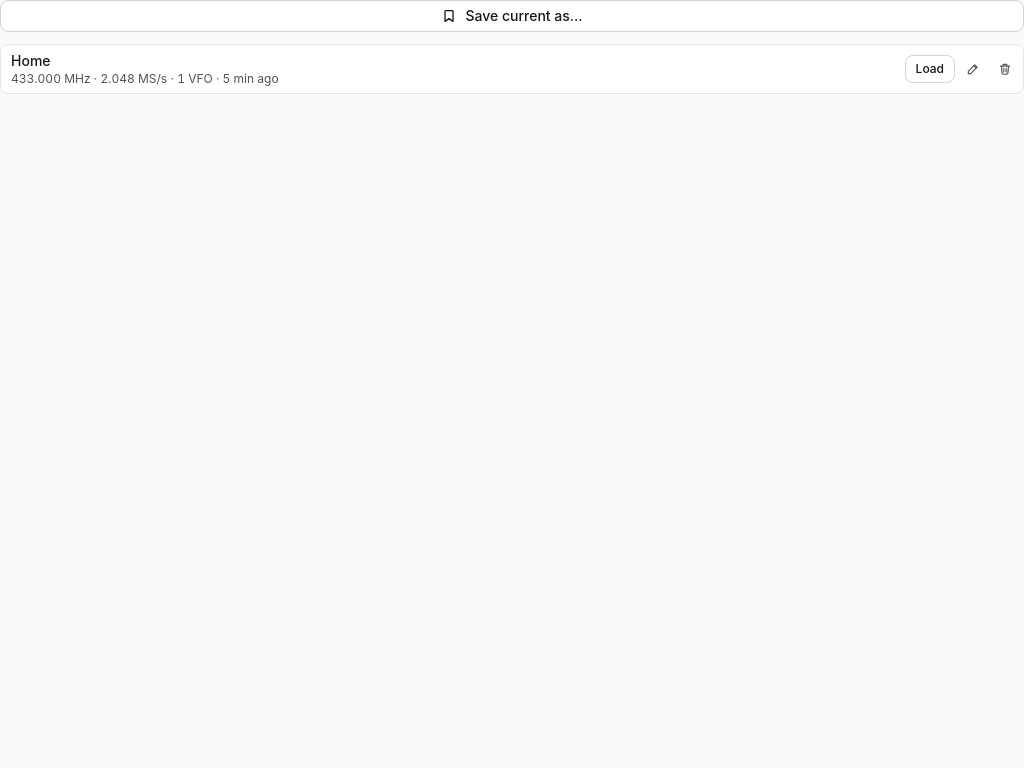
Test: ProfilesPanel › asks before overwriting a profile with the same name
Expected: the text "Home" is shown, [11,51,50,71]
Click the button "Save current as…": (512, 16) [0,0,1023,32]
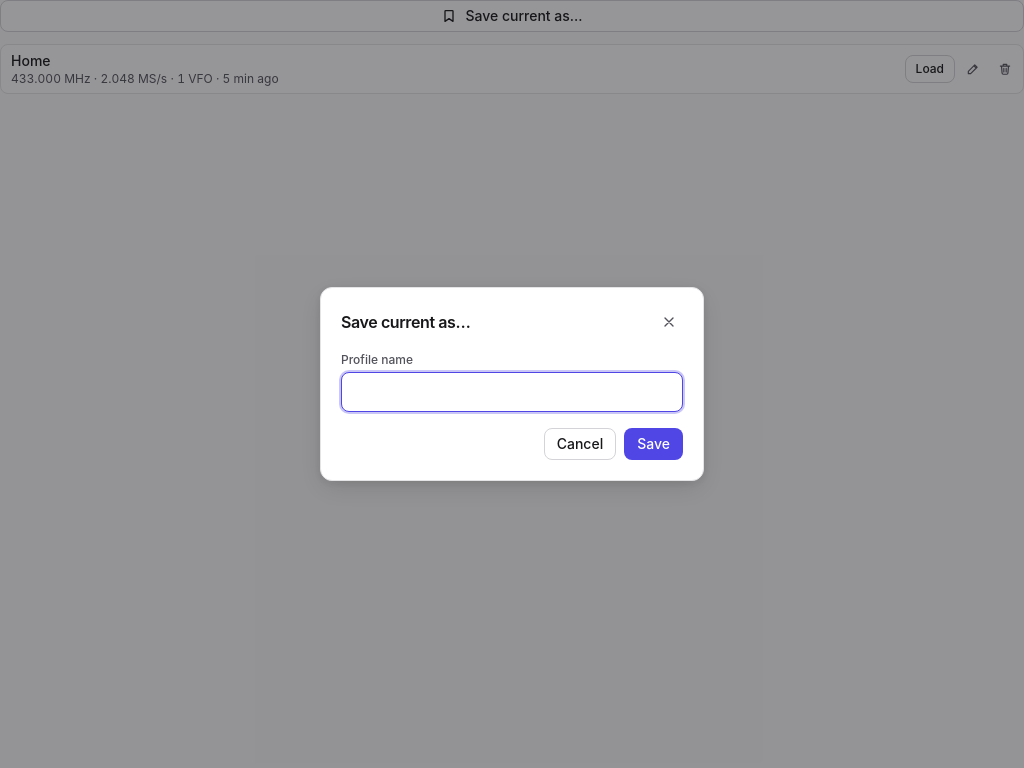
In the field labelled "Profile name": (512, 392) [342,373,682,411], type "home"
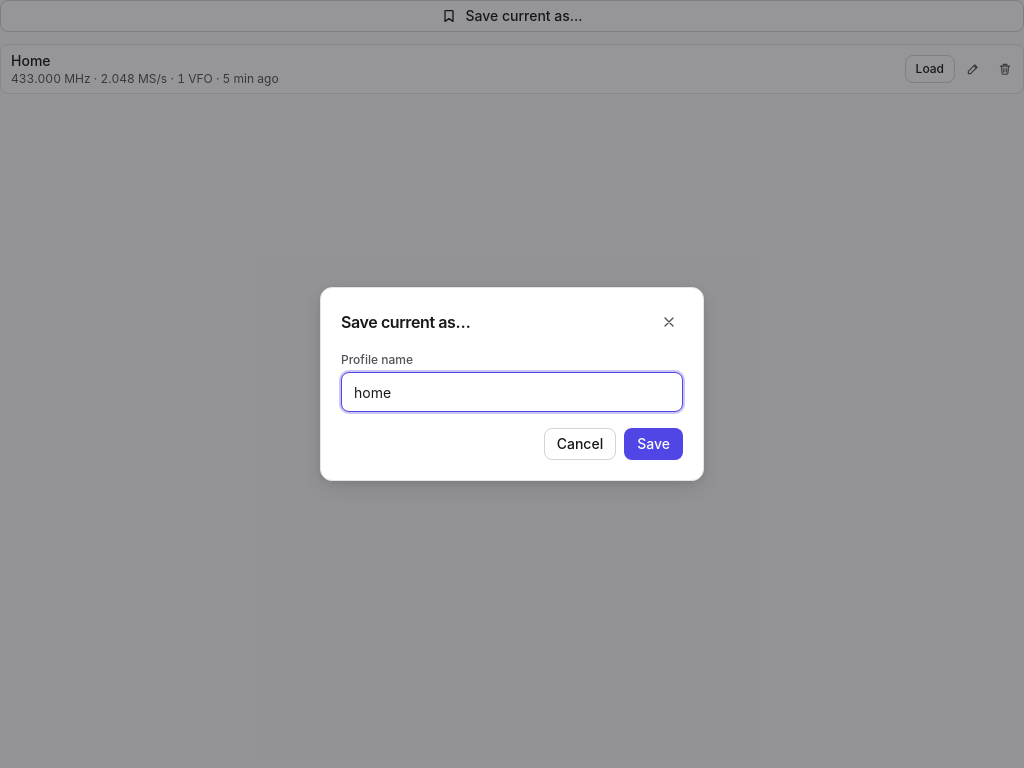
Click the button "Save": (654, 444) [624,428,683,460]
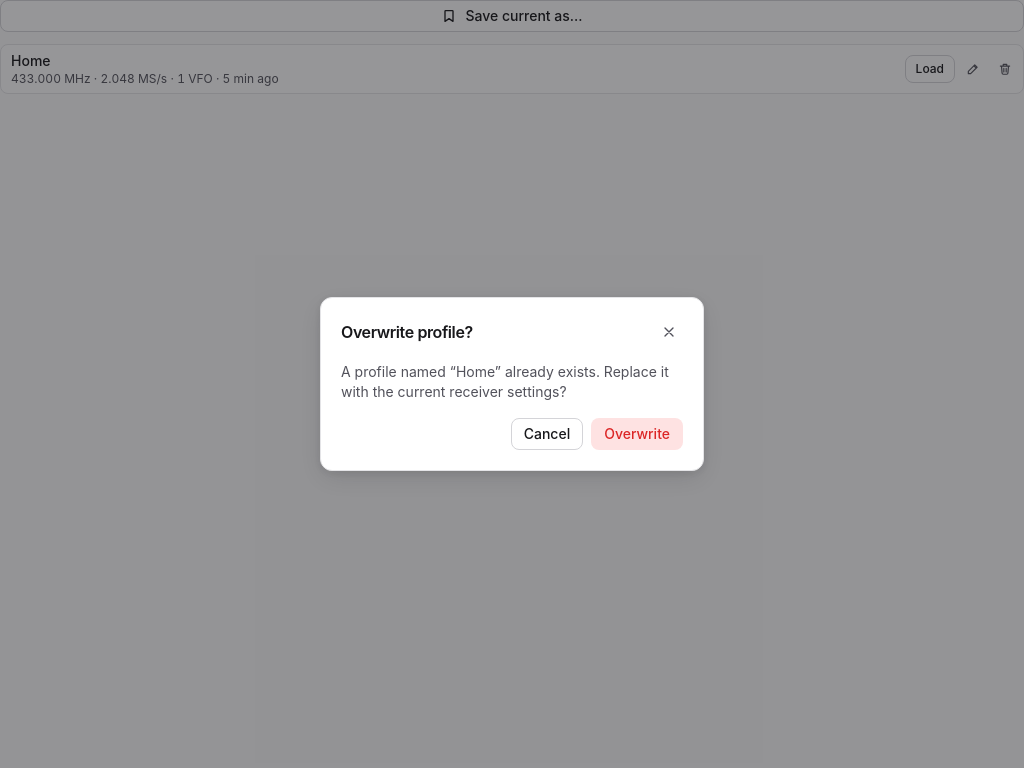
Expected: the dialog "Overwrite profile?" shows "“Home” already exists", [320,297,704,471]
Click the button "Overwrite": (637, 434) [591,418,683,450]
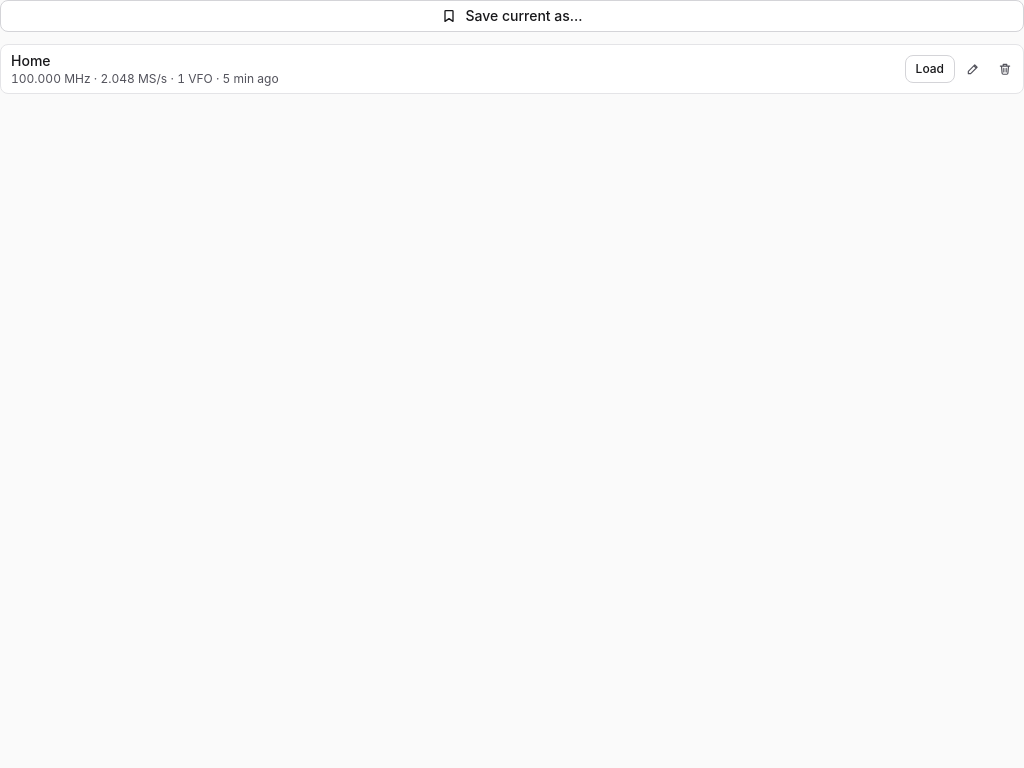
Expected: the dialog is gone
